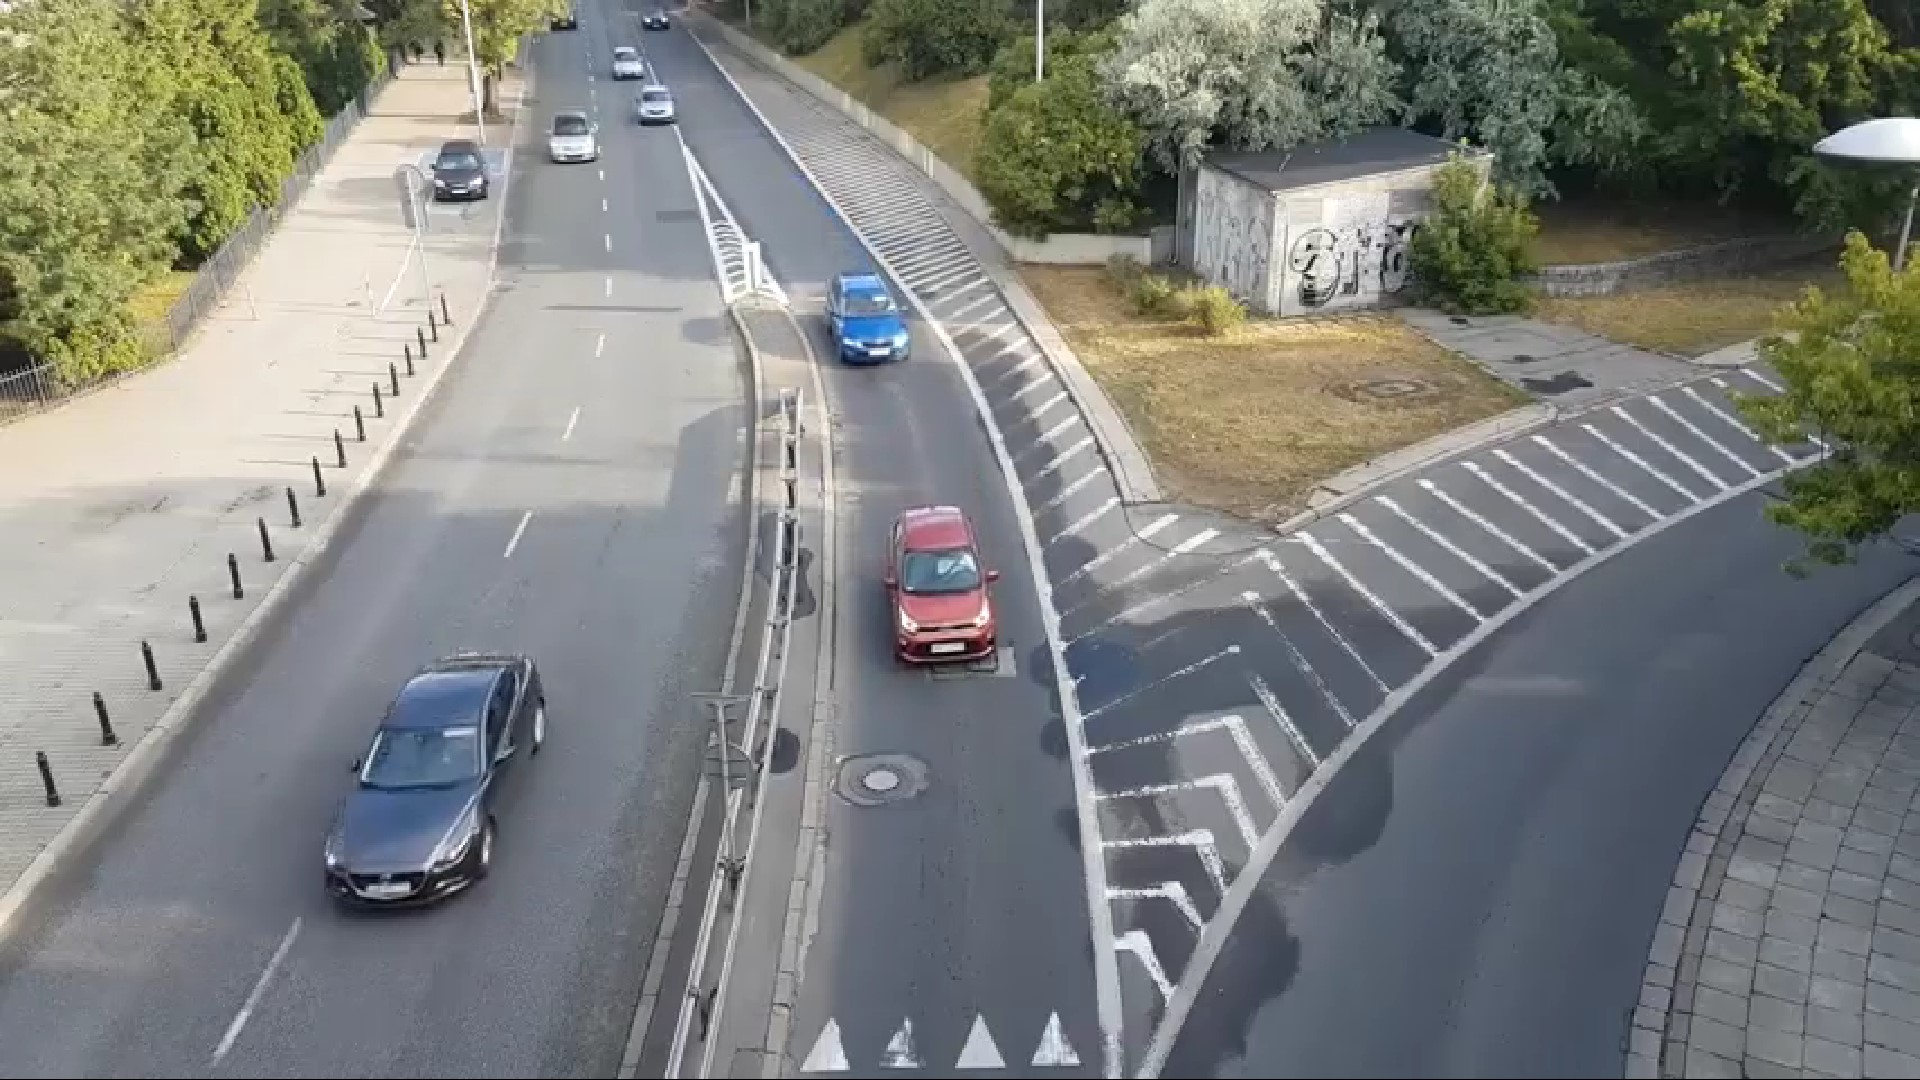mobil: (311, 644, 556, 924), (880, 500, 1004, 673), (815, 265, 915, 369), (537, 105, 604, 171), (427, 135, 491, 204), (626, 79, 680, 131), (609, 46, 644, 80)
